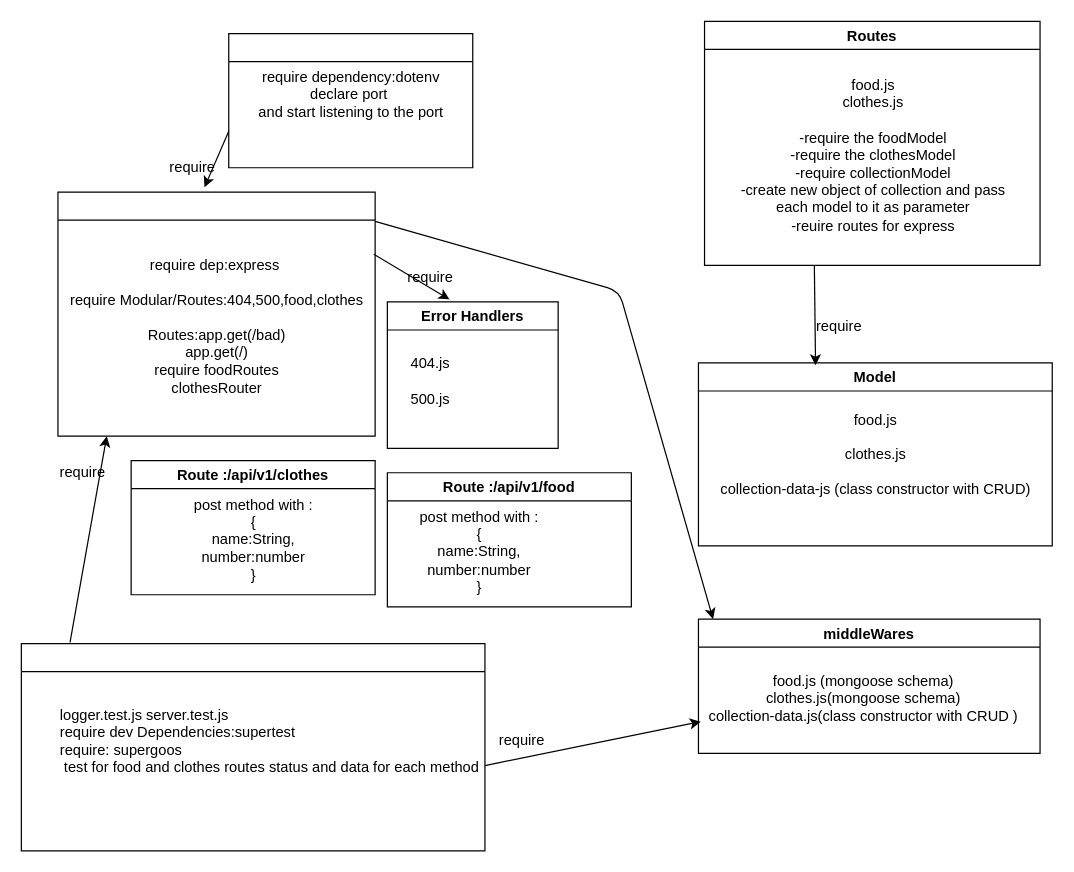
The diagram is 1074 pixels wide and 872 high, and some of its shapes have lost their labels. The shapes that lost their labels are listed below. From the top down, each one's box as (x1, y1, x2, y2) in pixels, then its label:
(228, 32, 473, 168): index.js
(57, 191, 375, 436): server.js
(20, 642, 485, 851): --tests--
